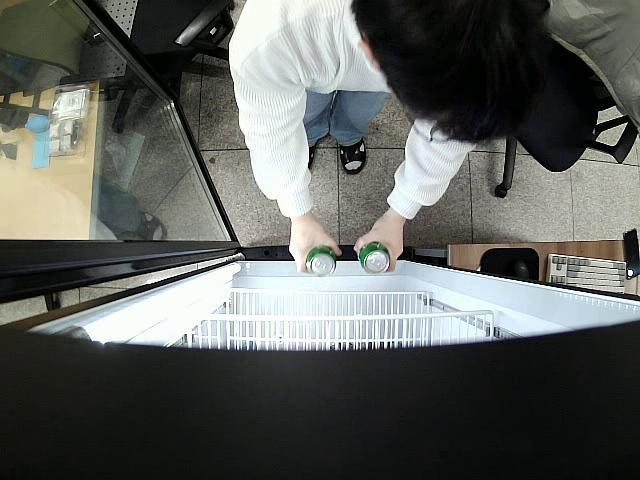12_chilsungCider: (304, 245, 337, 278), (358, 243, 389, 276)
